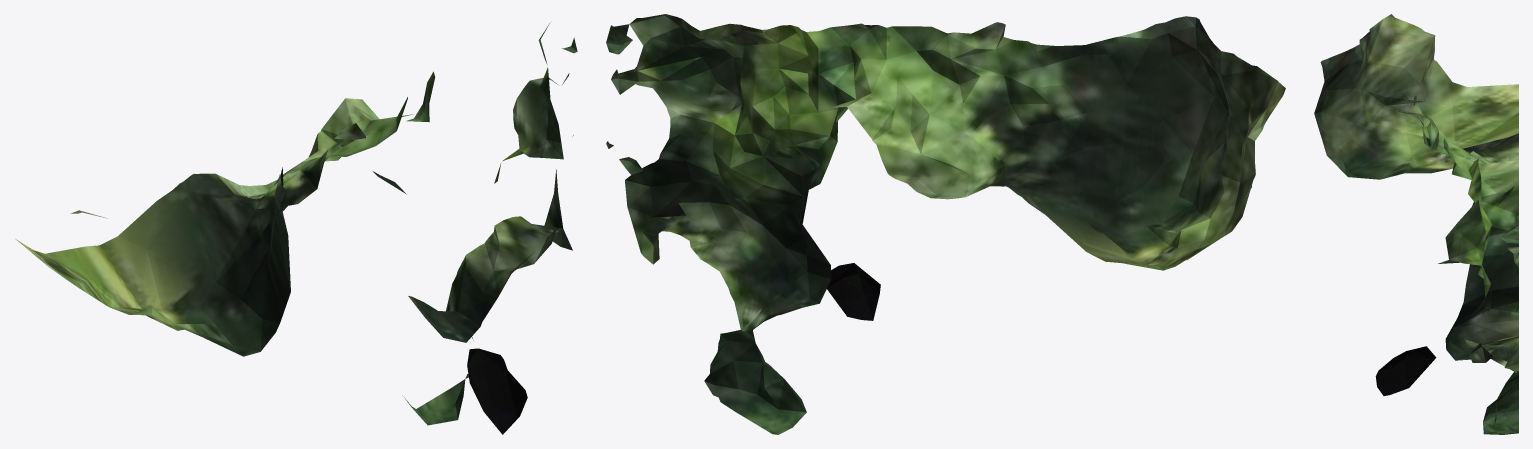
The picture shows the model from 3 angles, left to right: view 1: azimuth 30°, elevation 25°; view 2: azimuth 150°, elevation 25°; view 3: azimuth 270°, elevation 25°; orthographic projection. The views are drawn at different scales.
Size of the model in its own units: 18.32 by 11.5 by 7.82.
1 material, 1 textured.
